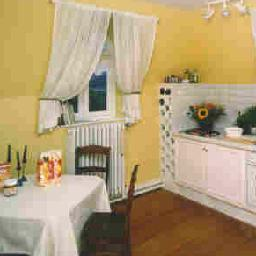Ventana: (63, 16, 120, 121)
